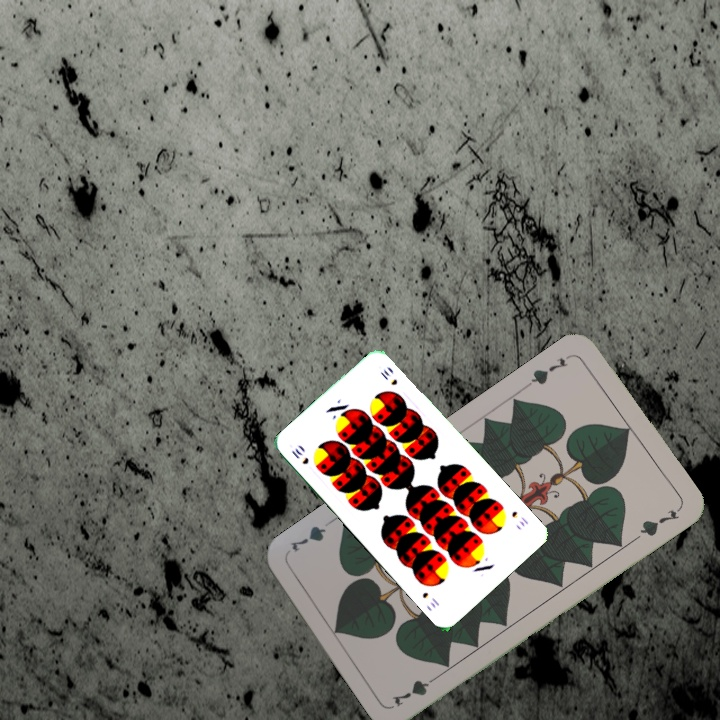G7: (388, 670, 443, 709), (522, 350, 574, 389)
S10: (287, 444, 311, 467), (507, 507, 531, 529)
